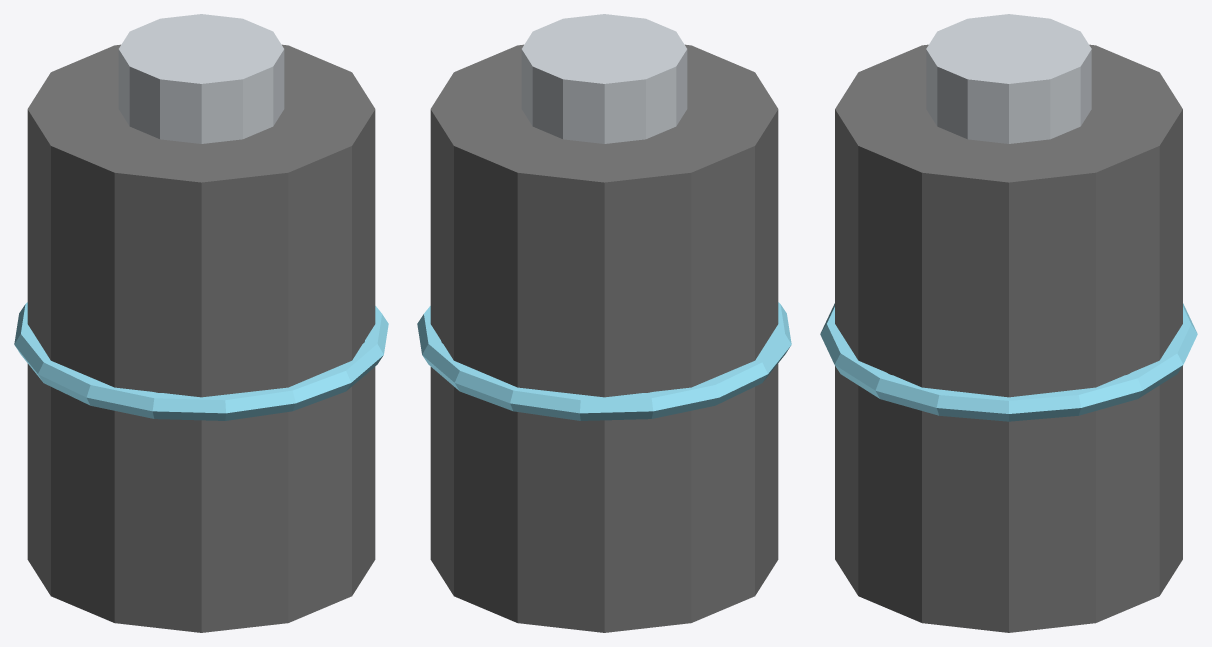
Rendered from bateria_1.glb.
3 renders of one model, left to right at view 1: azimuth 30°, elevation 25°; view 2: azimuth 150°, elevation 25°; view 3: azimuth 270°, elevation 25°, orthographic.
Visible parts, largest first — view 1: celda, polo, franja; view 2: celda, polo, franja; view 3: celda, polo, franja.
Part boxes in pixels (x1=…): celda: x1=27, y1=44, x2=375, y2=632; polo: x1=118, y1=14, x2=284, y2=143; franja: x1=14, y1=302, x2=388, y2=420; celda: x1=430, y1=44, x2=778, y2=632; polo: x1=521, y1=14, x2=687, y2=143; franja: x1=417, y1=302, x2=791, y2=420; celda: x1=835, y1=44, x2=1182, y2=632; polo: x1=926, y1=14, x2=1091, y2=143; franja: x1=820, y1=303, x2=1197, y2=421.
Bounding box in the file's own units: 0.6035 × 0.9 × 0.6035.
